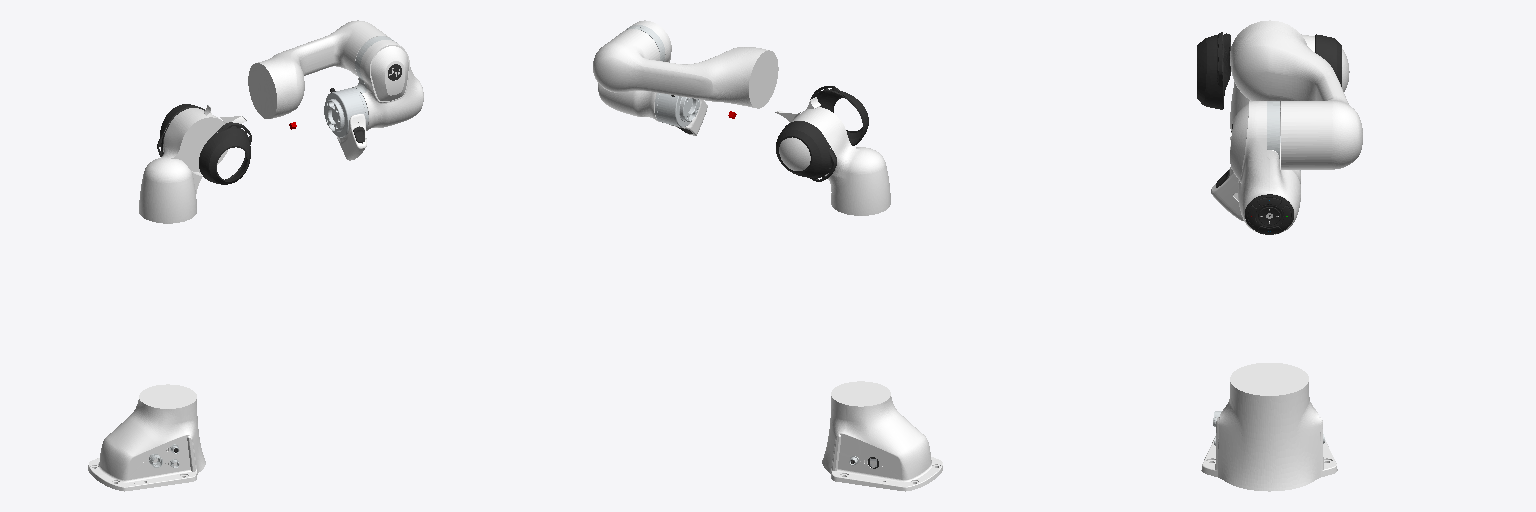
URDF robot description (panda):
<?xml version="1.0" ?>
<!-- =================================================================================== -->
<!-- |    This document was autogenerated by xacro from panda_arm.urdf.xacro           | -->
<!-- |    EDITING THIS FILE BY HAND IS NOT RECOMMENDED                                 | -->
<!-- =================================================================================== -->
<robot name="panda" xmlns:xacro="http://www.ros.org/wiki/xacro">
  <link name="panda_link0">
    <inertial>
      <!--<origin
        xyz="-1.6981669084292E-15 0 -9.28958911114441E-07"
        rpy="0 0 0" />-->
      <origin rpy="0 0 0" xyz="0 0 0"/>
      <mass value="1.43675504024173"/>
      <inertia ixx="0" ixy="0" ixz="0" iyy="0" iyz="0" izz="0"/>
    </inertial>
    <visual>
      <geometry>
        <mesh filename="package://franka_description/meshes/visual/link0.dae"/>
      </geometry>
    </visual>
    <collision>
      <geometry>
        <mesh filename="package://franka_description/meshes/collision/link0.stl"/>
      </geometry>
    </collision>
  </link>
  <link name="panda_link1">
    <inertial>
      <!--      <origin
        xyz="-1.6981669084292E-15 0 -9.28958911114441E-07"
        rpy="0 0 0" />-->
      <origin rpy="0 0 0" xyz="0 0 0"/>
      <mass value="1.43675504024173"/>
      <inertia ixx="0" ixy="0" ixz="0" iyy="0" iyz="0" izz="0"/>
    </inertial>
    <visual>
      <geometry>
        <mesh filename="package://franka_description/meshes/visual/link1.dae"/>
      </geometry>
    </visual>
    <collision>
      <geometry>
        <mesh filename="package://franka_description/meshes/collision/link1.stl"/>
      </geometry>
    </collision>
  </link>
  <joint name="panda_joint1" type="revolute">
    <safety_controller k_position="100.0" k_velocity="40.0" soft_lower_limit="-2.8973" soft_upper_limit="2.8973"/>
    <!-- for backup <origin rpy="0 0 0" xyz="0.35 0 0.708"/> -->
    <origin rpy="0 0 0" xyz="0 0 0.333"/>
    <parent link="panda_link0"/>
    <child link="panda_link1"/>
    <axis xyz="0 0 1"/>
    <limit effort="87" lower="-2.8973" upper="2.8973" velocity="2.1750"/>
  </joint>
  <link name="panda_link2">
    <inertial>
      <!--      <origin
        xyz="-1.6981669084292E-15 0 -9.28958911114441E-07"
        rpy="0 0 0" />-->
      <origin rpy="0 0 0" xyz="0 0 0"/>
      <mass value="1.43675504024173"/>
      <inertia ixx="0" ixy="0" ixz="0" iyy="0" iyz="0" izz="0"/>
    </inertial>
    <visual>
      <geometry>
        <mesh filename="package://franka_description/meshes/visual/link2.dae"/>
      </geometry>
    </visual>
    <collision>
      <geometry>
        <mesh filename="package://franka_description/meshes/collision/link2.stl"/>
      </geometry>
    </collision>
  </link>
  <joint name="panda_joint2" type="revolute">
    <safety_controller k_position="100.0" k_velocity="40.0" soft_lower_limit="-1.7628" soft_upper_limit="1.7628"/>
    <origin rpy="-1.57079632679 0 0" xyz="0 0 0"/>
    <parent link="panda_link1"/>
    <child link="panda_link2"/>
    <axis xyz="0 0 1"/>
    <limit effort="87" lower="-1.7628" upper="1.7628" velocity="2.1750"/>
  </joint>
  <link name="panda_link3">
    <inertial>
      <!--      <origin
        xyz="-1.6981669084292E-15 0 -9.28958911114441E-07"
        rpy="0 0 0" />-->
      <origin rpy="0 0 0" xyz="0 0 0"/>
      <mass value="1.43675504024173"/>
      <inertia ixx="0" ixy="0" ixz="0" iyy="0" iyz="0" izz="0"/>
    </inertial>
    <visual>
      <geometry>
        <mesh filename="package://franka_description/meshes/visual/link3.dae"/>
      </geometry>
    </visual>
    <collision>
      <geometry>
        <mesh filename="package://franka_description/meshes/collision/link3.stl"/>
      </geometry>
    </collision>
  </link>
  <joint name="panda_joint3" type="revolute">
    <safety_controller k_position="100.0" k_velocity="40.0" soft_lower_limit="-2.8973" soft_upper_limit="2.8973"/>
    <origin rpy="1.57079632679 0 0" xyz="0 -0.316 0"/>
    <parent link="panda_link2"/>
    <child link="panda_link3"/>
    <axis xyz="0 0 1"/>
    <limit effort="87" lower="-2.8973" upper="2.8973" velocity="2.1750"/>
  </joint>
  <link name="panda_link4">
    <inertial>
      <!--      <origin
        xyz="-1.6981669084292E-15 0 -9.28958911114441E-07"
        rpy="0 0 0" />-->
      <origin rpy="0 0 0" xyz="0 0 0"/>
      <mass value="1.43675504024173"/>
      <inertia ixx="0" ixy="0" ixz="0" iyy="0" iyz="0" izz="0"/>
    </inertial>
    <visual>
      <geometry>
        <mesh filename="package://franka_description/meshes/visual/link4.dae"/>
      </geometry>
    </visual>
    <collision>
      <geometry>
        <mesh filename="package://franka_description/meshes/collision/link4.stl"/>
      </geometry>
    </collision>
  </link>
  <joint name="panda_joint4" type="revolute">
    <safety_controller k_position="100.0" k_velocity="40.0" soft_lower_limit="-3.0718" soft_upper_limit="-0.0698"/>
    <origin rpy="1.57079632679 0 0" xyz="0.0825 0 0"/>
    <parent link="panda_link3"/>
    <child link="panda_link4"/>
    <axis xyz="0 0 1"/>
    <limit effort="87" lower="-3.0718" upper="-0.0698" velocity="2.1750"/>
  </joint>
  <link name="panda_link5">
    <inertial>
      <!--      <origin
        xyz="-1.6981669084292E-15 0 -9.28958911114441E-07"
        rpy="0 0 0" />-->
      <origin rpy="0 0 0" xyz="0 0 0"/>
      <mass value="1.43675504024173"/>
      <inertia ixx="0" ixy="0" ixz="0" iyy="0" iyz="0" izz="0"/>
    </inertial>
    <visual>
      <geometry>
        <mesh filename="package://franka_description/meshes/visual/link5.dae"/>
      </geometry>
    </visual>
    <collision>
      <geometry>
        <mesh filename="package://franka_description/meshes/collision/link5.stl"/>
      </geometry>
    </collision>
  </link>
  <joint name="panda_joint5" type="revolute">
    <safety_controller k_position="100.0" k_velocity="40.0" soft_lower_limit="-2.8973" soft_upper_limit="2.8973"/>
    <origin rpy="-1.57079632679 0 0" xyz="-0.0825 0.384 0"/>
    <parent link="panda_link4"/>
    <child link="panda_link5"/>
    <axis xyz="0 0 1"/>
    <limit effort="12" lower="-2.8973" upper="2.8973" velocity="2.6100"/>
  </joint>
  <link name="panda_link6">
    <inertial>
      <!--      <origin
        xyz="-1.6981669084292E-15 0 -9.28958911114441E-07"
        rpy="0 0 0" />-->
      <origin rpy="0 0 0" xyz="0 0 0"/>
      <mass value="1.43675504024173"/>
      <inertia ixx="0" ixy="0" ixz="0" iyy="0" iyz="0" izz="0"/>
    </inertial>
    <visual>
      <geometry>
        <mesh filename="package://franka_description/meshes/visual/link6.dae"/>
      </geometry>
    </visual>
    <collision>
      <geometry>
        <mesh filename="package://franka_description/meshes/collision/link6.stl"/>
      </geometry>
    </collision>
  </link>
  <joint name="panda_joint6" type="revolute">
    <safety_controller k_position="100.0" k_velocity="40.0" soft_lower_limit="-0.0175" soft_upper_limit="3.7525"/>
    <origin rpy="1.57079632679 0 0" xyz="0 0 0"/>
    <parent link="panda_link5"/>
    <child link="panda_link6"/>
    <axis xyz="0 0 1"/>
    <limit effort="12" lower="-0.0175" upper="3.7525" velocity="2.6100"/>
  </joint>
  <link name="panda_link7">
    <inertial>
      <!--      <origin
        xyz="-1.6981669084292E-15 0 -9.28958911114441E-07"
        rpy="0 0 0" />-->
      <origin rpy="0 0 0" xyz="0 0 0"/>
      <mass value="1.43675504024173"/>
      <inertia ixx="0" ixy="0" ixz="0" iyy="0" iyz="0" izz="0"/>
    </inertial>
    <visual>
      <geometry>
        <mesh filename="package://franka_description/meshes/visual/link7.dae"/>
      </geometry>
    </visual>
    <collision>
      <geometry>
        <mesh filename="package://franka_description/meshes/collision/link7.stl"/>
      </geometry>
    </collision>
  </link>
  <joint name="panda_joint7" type="revolute">
    <safety_controller k_position="100.0" k_velocity="40.0" soft_lower_limit="-2.8973" soft_upper_limit="2.8973"/>
    <origin rpy="1.57079632679 0 0" xyz="0.088 0 0"/>
    <parent link="panda_link6"/>
    <child link="panda_link7"/>
    <axis xyz="0 0 1"/>
    <limit effort="12" lower="-2.8973" upper="2.8973" velocity="2.6100"/>
  </joint>


  <link name="panda_link8">
    <visual>
      <origin xyz="0 0 0" rpy="0 0 0"/>
      <geometry>
        <box size="0.01 0.01 0.01" />
      </geometry>
      <material
        name="">
        <color
          rgba="0.8 0.0 0.0 1.0" />
      </material>
     </visual>

    <inertial>
      <origin xyz="0.0 0.0 0.0" rpy="0 0 0"/>
      <mass value="0.001"/>
      <inertia ixx="1.0e-06" ixy="0.0" ixz="0.0" iyy="1.0e-06" iyz="0.0" izz="1.0e-06" />
    </inertial>
  </link>

      <!--origin rpy="3.141592654 0 -0.785398163" xyz="0.07071 -0.07071 0.1923"/-->
  <joint name="panda_joint8" type="fixed">
      <origin rpy="3.141592654 0 -0.785398163" xyz="0.0 -0.0 0.1923"/>
    <parent link="panda_link7"/>
    <child link="panda_link8"/>
    <axis xyz="0 0 0"/>
  </joint>

</robot>

--- Facts derived from the render (not from the file) ---
3 views of the same robot in one strip: view 1: azimuth 30°, elevation 25°; view 2: azimuth 150°, elevation 25°; view 3: azimuth 270°, elevation 25° (orthographic).
Robot: panda — 9 links, 8 joints (7 revolute, 1 fixed); root link panda_link0; default pose: all joints at 0 but 1 set to mid-range because 0 is outside their limits (panda_joint4 = -1.57).
Links seen in each view (by area): view 1: panda_link0, panda_link3, panda_link5, panda_link6, panda_link7, panda_link4; view 2: panda_link0, panda_link5, panda_link3, panda_link6, panda_link7, panda_link4; view 3: panda_link0, panda_link5, panda_link6, panda_link4, panda_link3, panda_link7.
Link boxes in pixels (x1,y1,x2,y2): panda_link0: (88,384,205,491); panda_link3: (139,104,227,223); panda_link5: (248,20,389,118); panda_link6: (352,36,423,130); panda_link7: (324,88,368,160); panda_link4: (199,105,251,184); panda_link0: (822,381,942,491); panda_link5: (593,29,778,108); panda_link3: (776,107,890,215); panda_link6: (598,20,671,121); panda_link7: (655,93,707,135); panda_link4: (775,86,868,145); panda_link0: (1201,363,1337,491); panda_link5: (1230,20,1362,169); panda_link6: (1230,101,1300,234); panda_link4: (1197,32,1230,109); panda_link3: (1230,34,1349,135); panda_link7: (1211,136,1300,220).
Size in the robot's own frame: 0.7022 by 0.2309 by 0.7865 metres.
Meshes: 8 distinct files referenced, 6 mesh visuals loaded (6 Collada DAE); not drawn: 2 (reference not matched to a file when rendering).